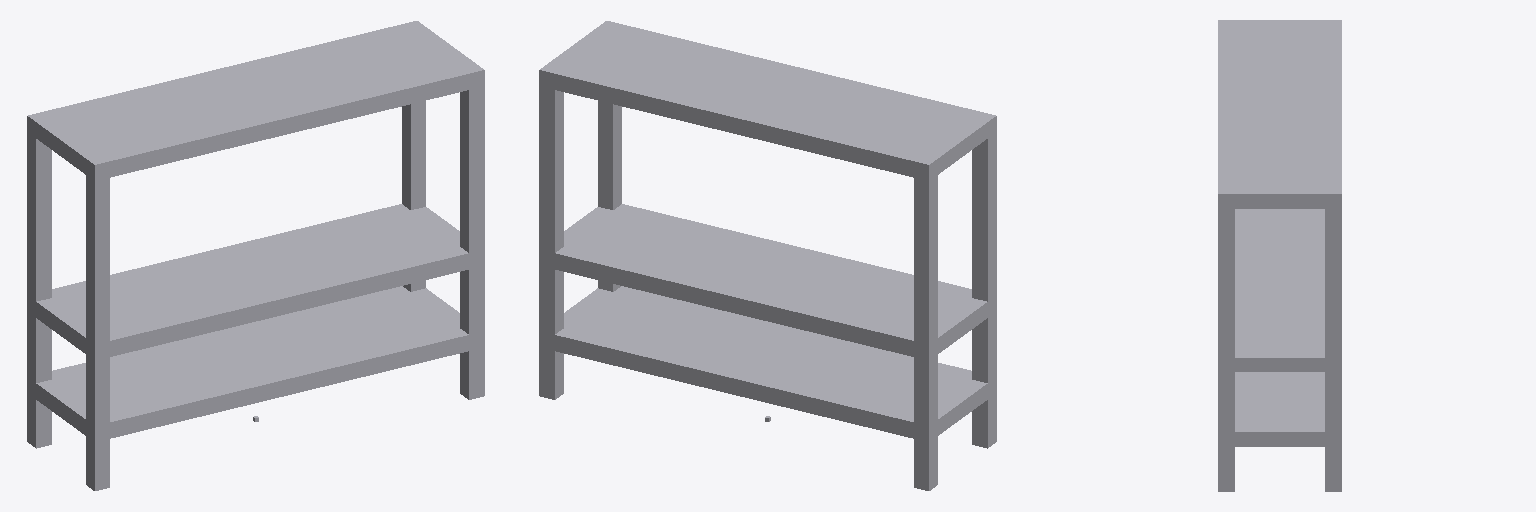
The robot description file, URDF, robot "shelf":
<?xml version='1.0' encoding='utf-8'?>
<robot name="shelf">
  <material name="shelf_steel">
    <color rgba="0.75 0.75 0.78 1.0" />
  </material>
  <link name="shelf_base_link">
    <inertial>
      <origin xyz="0 0 0" rpy="0 0 0" />
      <mass value="1" />
      <inertia ixx="0.001" ixy="0" ixz="0" iyy="0.001" iyz="0" izz="0.001" />
    </inertial>
    <visual>
      <origin xyz="0 0 0" rpy="0 0 0" />
      <geometry>
        <box size="0.01 0.01 0.01" />
      </geometry>
      <material name="shelf_steel" />
    </visual>
    <collision>
      <origin xyz="0 0 0" rpy="0 0 0" />
      <geometry>
        <box size="0.01 0.01 0.01" />
      </geometry>
    </collision>
  </link>
  <link name="shelf_leg_front_left_link">
    <inertial>
      <origin xyz="0 0 0" rpy="0 0 0" />
      <mass value="1" />
      <inertia ixx="0.001" ixy="0" ixz="0" iyy="0.001" iyz="0" izz="0.001" />
    </inertial>
    <visual>
      <origin rpy="0 0 0" xyz="0 0 0" />
      <geometry>
        <box size="0.04 0.04 0.80" />
      </geometry>
      <material name="shelf_steel" />
    </visual>
    <collision>
      <origin rpy="0 0 0" xyz="0 0 0" />
      <geometry>
        <box size="0.04 0.04 0.80" />
      </geometry>
    </collision>
  </link>
  <joint name="shelf_leg_front_left_joint" type="fixed">
    <parent link="shelf_base_link" />
    <child link="shelf_leg_front_left_link" />
    <origin rpy="0 0 0" xyz="0.48 0.13 0.40" />
  </joint>
  <link name="shelf_leg_front_right_link">
    <inertial>
      <origin xyz="0 0 0" rpy="0 0 0" />
      <mass value="1" />
      <inertia ixx="0.001" ixy="0" ixz="0" iyy="0.001" iyz="0" izz="0.001" />
    </inertial>
    <visual>
      <origin rpy="0 0 0" xyz="0 0 0" />
      <geometry>
        <box size="0.04 0.04 0.80" />
      </geometry>
      <material name="shelf_steel" />
    </visual>
    <collision>
      <origin rpy="0 0 0" xyz="0 0 0" />
      <geometry>
        <box size="0.04 0.04 0.80" />
      </geometry>
    </collision>
  </link>
  <joint name="shelf_leg_front_right_joint" type="fixed">
    <parent link="shelf_base_link" />
    <child link="shelf_leg_front_right_link" />
    <origin rpy="0 0 0" xyz="0.48 -0.13 0.40" />
  </joint>
  <link name="shelf_leg_back_left_link">
    <inertial>
      <origin xyz="0 0 0" rpy="0 0 0" />
      <mass value="1" />
      <inertia ixx="0.001" ixy="0" ixz="0" iyy="0.001" iyz="0" izz="0.001" />
    </inertial>
    <visual>
      <origin rpy="0 0 0" xyz="0 0 0" />
      <geometry>
        <box size="0.04 0.04 0.80" />
      </geometry>
      <material name="shelf_steel" />
    </visual>
    <collision>
      <origin rpy="0 0 0" xyz="0 0 0" />
      <geometry>
        <box size="0.04 0.04 0.80" />
      </geometry>
    </collision>
  </link>
  <joint name="shelf_leg_back_left_joint" type="fixed">
    <parent link="shelf_base_link" />
    <child link="shelf_leg_back_left_link" />
    <origin rpy="0 0 0" xyz="-0.48 0.13 0.40" />
  </joint>
  <link name="shelf_leg_back_right_link">
    <inertial>
      <origin xyz="0 0 0" rpy="0 0 0" />
      <mass value="1" />
      <inertia ixx="0.001" ixy="0" ixz="0" iyy="0.001" iyz="0" izz="0.001" />
    </inertial>
    <visual>
      <origin rpy="0 0 0" xyz="0 0 0" />
      <geometry>
        <box size="0.04 0.04 0.80" />
      </geometry>
      <material name="shelf_steel" />
    </visual>
    <collision>
      <origin rpy="0 0 0" xyz="0 0 0" />
      <geometry>
        <box size="0.04 0.04 0.80" />
      </geometry>
    </collision>
  </link>
  <joint name="shelf_leg_back_right_joint" type="fixed">
    <parent link="shelf_base_link" />
    <child link="shelf_leg_back_right_link" />
    <origin rpy="0 0 0" xyz="-0.48 -0.13 0.40" />
  </joint>
  <link name="shelf_board_top_link">
    <inertial>
      <origin xyz="0 0 0" rpy="0 0 0" />
      <mass value="1" />
      <inertia ixx="0.001" ixy="0" ixz="0" iyy="0.001" iyz="0" izz="0.001" />
    </inertial>
    <visual>
      <origin rpy="0 0 0" xyz="0 0 0" />
      <geometry>
        <box size="1.00 0.30 0.04" />
      </geometry>
      <material name="shelf_steel" />
    </visual>
    <collision>
      <origin rpy="0 0 0" xyz="0 0 0" />
      <geometry>
        <box size="1.00 0.30 0.04" />
      </geometry>
    </collision>
  </link>
  <joint name="shelf_board_top_joint" type="fixed">
    <parent link="shelf_base_link" />
    <child link="shelf_board_top_link" />
    <origin rpy="0 0 0" xyz="0 0 0.78" />
  </joint>
  <link name="shelf_board_middle_link">
    <inertial>
      <origin xyz="0 0 0" rpy="0 0 0" />
      <mass value="1" />
      <inertia ixx="0.001" ixy="0" ixz="0" iyy="0.001" iyz="0" izz="0.001" />
    </inertial>
    <visual>
      <origin rpy="0 0 0" xyz="0 0 0" />
      <geometry>
        <box size="1.00 0.30 0.04" />
      </geometry>
      <material name="shelf_steel" />
    </visual>
    <collision>
      <origin rpy="0 0 0" xyz="0 0 0" />
      <geometry>
        <box size="1.00 0.30 0.04" />
      </geometry>
    </collision>
  </link>
  <joint name="shelf_board_middle_joint" type="fixed">
    <parent link="shelf_base_link" />
    <child link="shelf_board_middle_link" />
    <origin rpy="0 0 0" xyz="0 0 0.34" />
  </joint>
  <link name="shelf_board_bottom_link">
    <inertial>
      <origin xyz="0 0 0" rpy="0 0 0" />
      <mass value="1" />
      <inertia ixx="0.001" ixy="0" ixz="0" iyy="0.001" iyz="0" izz="0.001" />
    </inertial>
    <visual>
      <origin rpy="0 0 0" xyz="0 0 0" />
      <geometry>
        <box size="1.00 0.30 0.04" />
      </geometry>
      <material name="shelf_steel" />
    </visual>
    <collision>
      <origin rpy="0 0 0" xyz="0 0 0" />
      <geometry>
        <box size="1.00 0.30 0.04" />
      </geometry>
    </collision>
  </link>
  <joint name="shelf_board_bottom_joint" type="fixed">
    <parent link="shelf_base_link" />
    <child link="shelf_board_bottom_link" />
    <origin rpy="0 0 0" xyz="0 0 0.14" />
  </joint>
</robot>

--- What the picture shows (computed from the rendered views, not written in the file) ---
The picture shows the robot from 3 angles, left to right: view 1: azimuth 30°, elevation 25°; view 2: azimuth 150°, elevation 25°; view 3: azimuth 270°, elevation 25°; orthographic projection.
Robot: shelf — 8 links, 7 joints (7 fixed); root link shelf_base_link; default pose: every joint at zero.
Links seen in each view (by area): view 1: shelf_board_top_link, shelf_board_middle_link, shelf_board_bottom_link, shelf_leg_back_right_link, shelf_leg_front_right_link, shelf_leg_back_left_link, shelf_leg_front_left_link; view 2: shelf_board_top_link, shelf_board_middle_link, shelf_board_bottom_link, shelf_leg_front_left_link, shelf_leg_back_left_link, shelf_leg_back_right_link, shelf_leg_front_right_link; view 3: shelf_board_top_link, shelf_board_middle_link, shelf_board_bottom_link, shelf_leg_front_left_link, shelf_leg_front_right_link.
Link boxes in pixels (bbox=[...]): shelf_board_top_link: bbox=[27, 23, 483, 180]; shelf_board_middle_link: bbox=[27, 204, 483, 358]; shelf_board_bottom_link: bbox=[27, 286, 484, 440]; shelf_leg_back_right_link: bbox=[86, 155, 109, 490]; shelf_leg_front_right_link: bbox=[460, 64, 484, 399]; shelf_leg_back_left_link: bbox=[27, 112, 51, 448]; shelf_leg_front_left_link: bbox=[402, 21, 425, 291]; shelf_board_top_link: bbox=[540, 21, 996, 180]; shelf_board_middle_link: bbox=[542, 204, 996, 360]; shelf_board_bottom_link: bbox=[539, 286, 996, 441]; shelf_leg_front_left_link: bbox=[539, 63, 563, 399]; shelf_leg_back_left_link: bbox=[914, 155, 937, 490]; shelf_leg_back_right_link: bbox=[972, 112, 996, 448]; shelf_leg_front_right_link: bbox=[598, 21, 621, 291]; shelf_board_top_link: bbox=[1218, 20, 1341, 208]; shelf_board_middle_link: bbox=[1218, 209, 1341, 371]; shelf_board_bottom_link: bbox=[1218, 372, 1341, 446]; shelf_leg_front_left_link: bbox=[1325, 187, 1341, 491]; shelf_leg_front_right_link: bbox=[1218, 187, 1234, 491].
Size in the robot's own frame: 1 by 0.3 by 0.805 metres.
Geometry: primitives only (box / cylinder / sphere), no mesh files.
